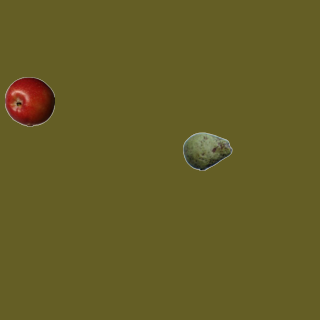Apple Braeburn: (4, 76, 54, 126)
Pear Stone: (182, 126, 232, 176)
